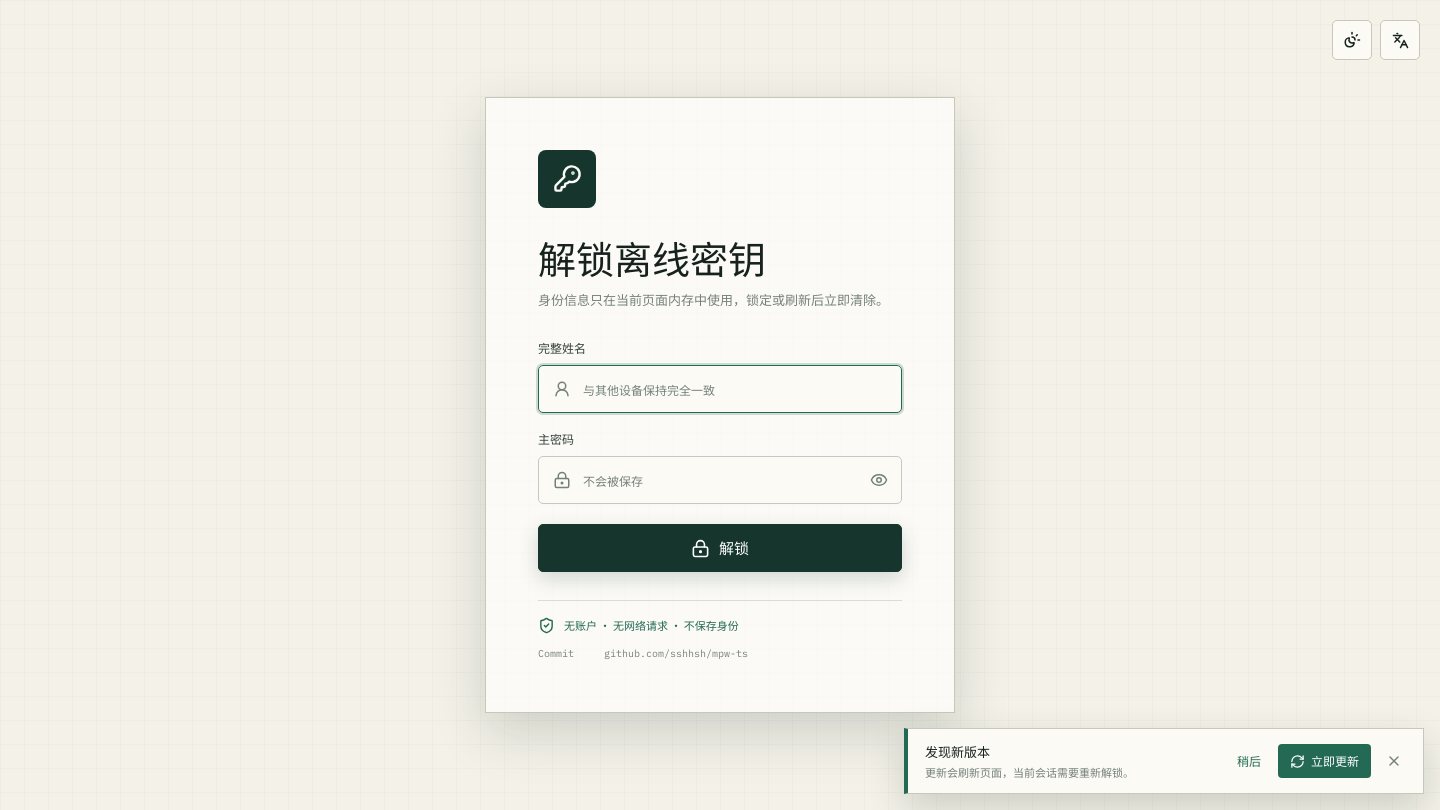
Test case: App session workflow › switches theme mode before and after unlocking
Click the button named "当前为跟随系统，切换为浅色模式": [1352, 40] box [1332,20,1372,60]
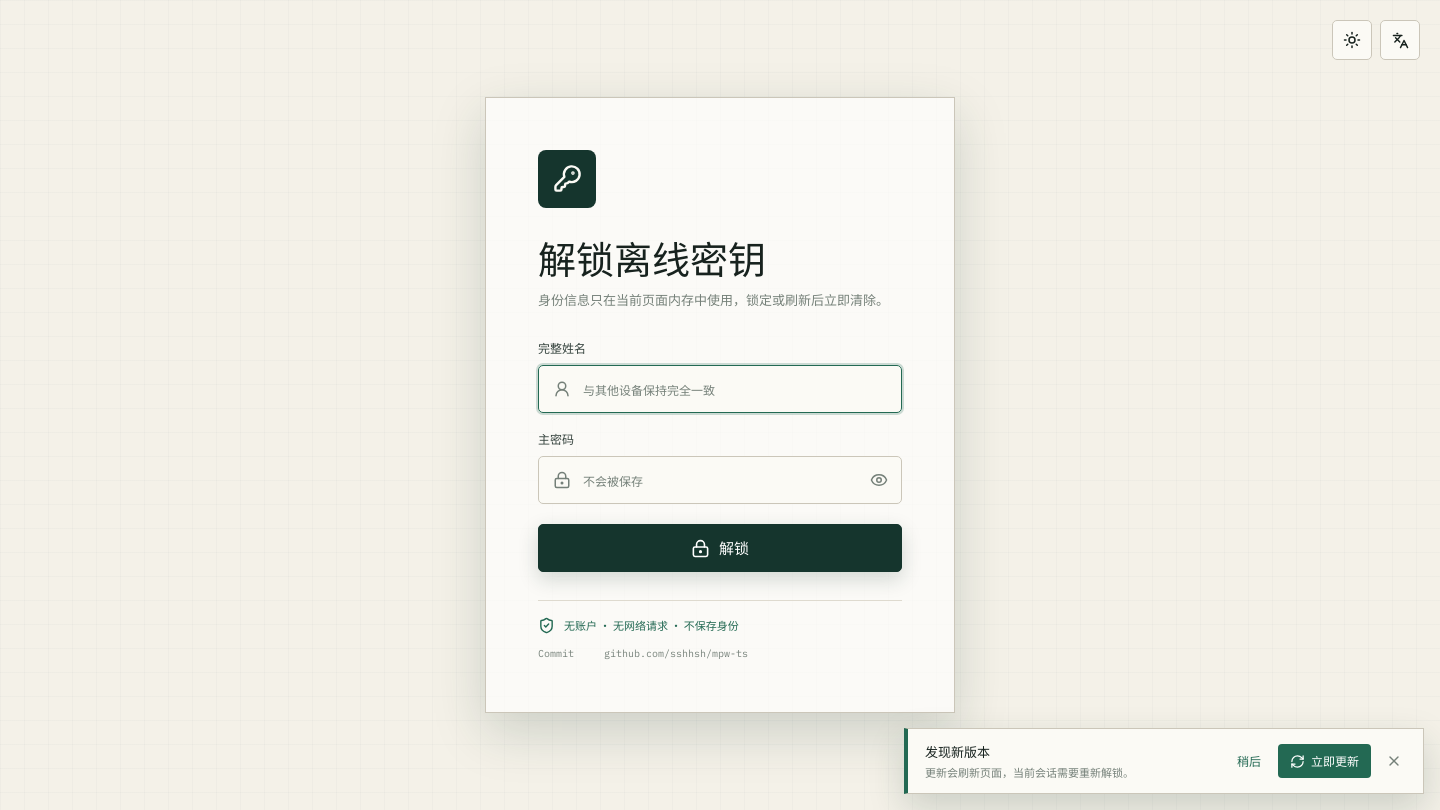
Click the button named "当前为浅色模式，切换为深色模式": [1352, 40] box [1332,20,1372,60]
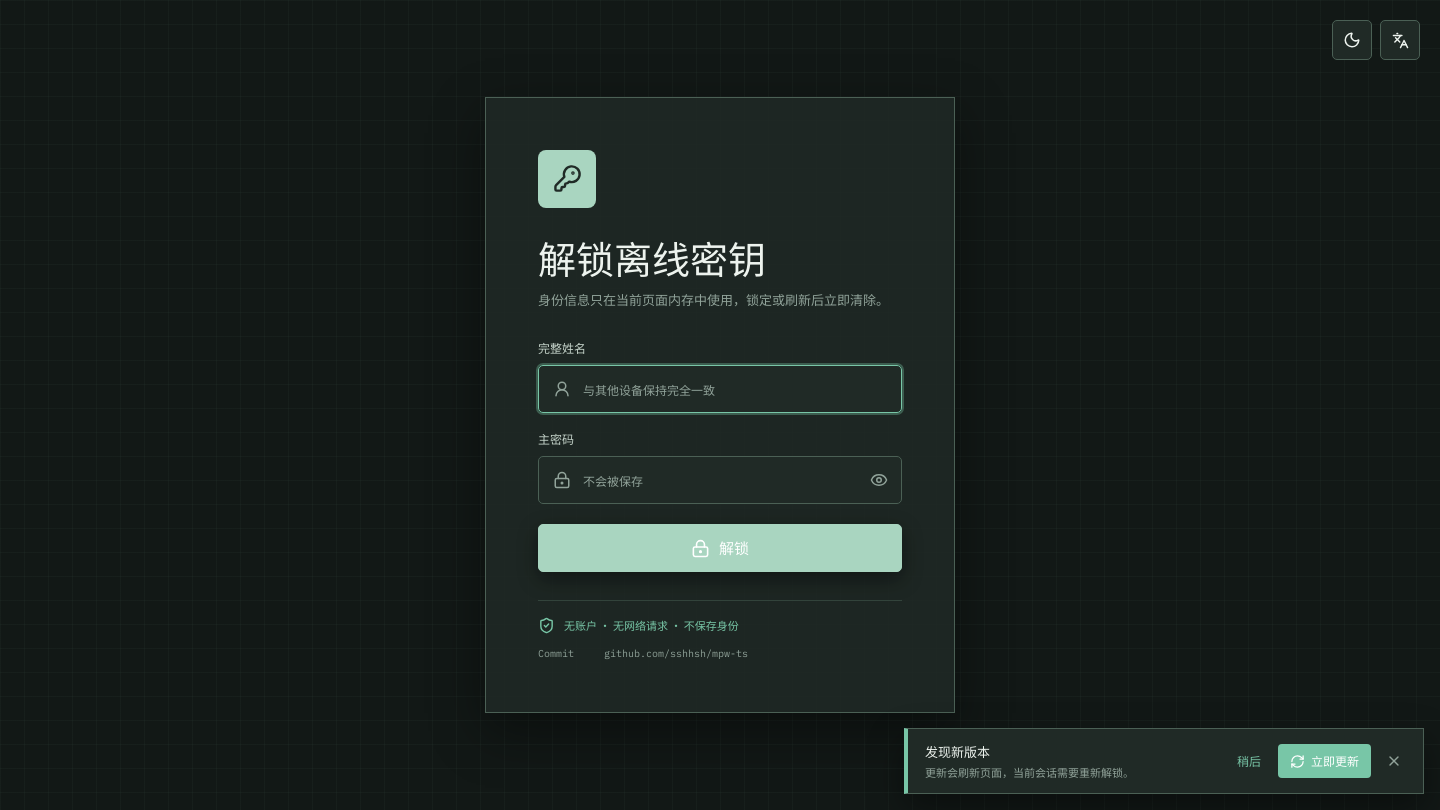
Click the button named "当前为深色模式，切换为跟随系统": [1352, 40] box [1332,20,1372,60]
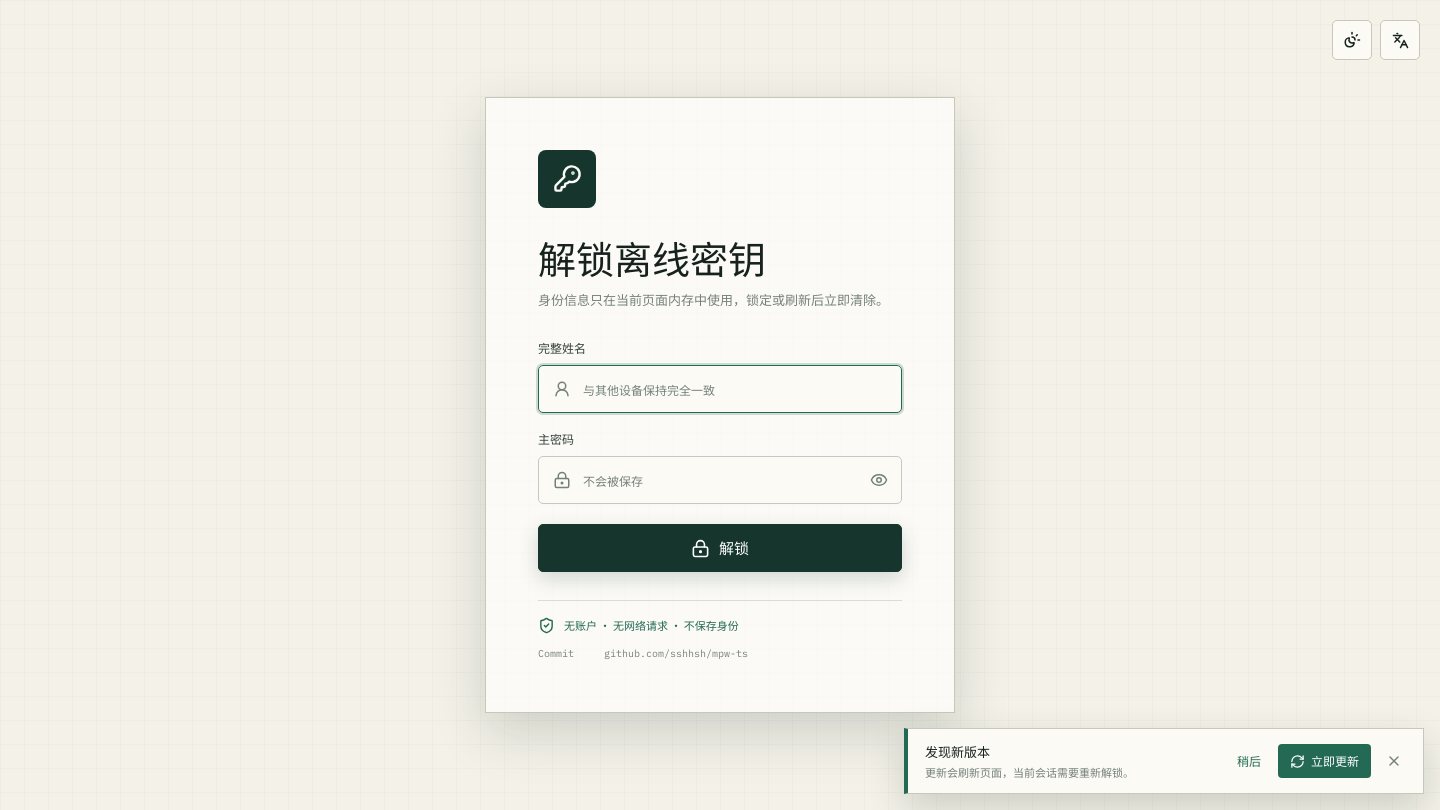
Click the button named "当前为跟随系统，切换为浅色模式": [1352, 40] box [1332,20,1372,60]
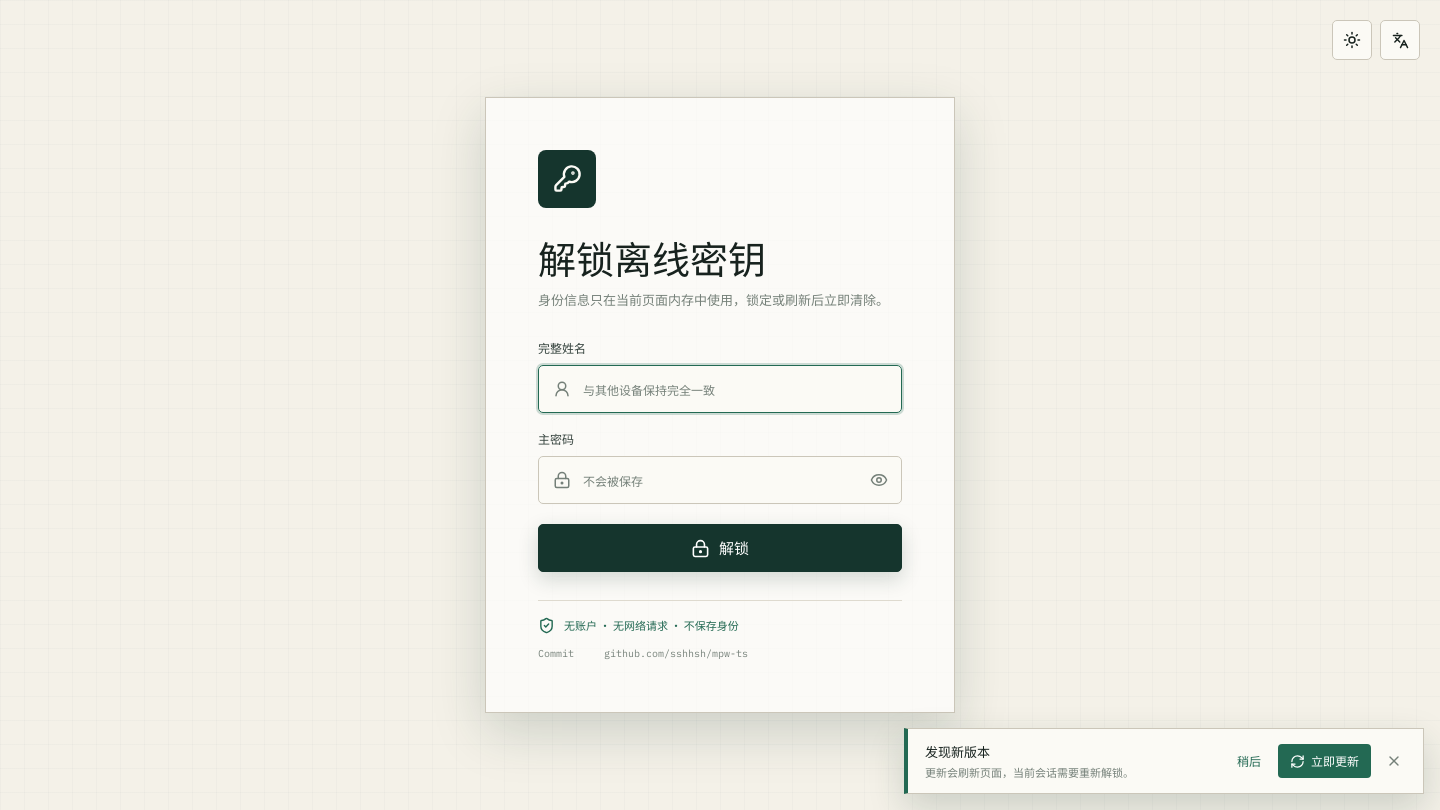
Click the button named "当前为浅色模式，切换为深色模式": [1352, 40] box [1332,20,1372,60]
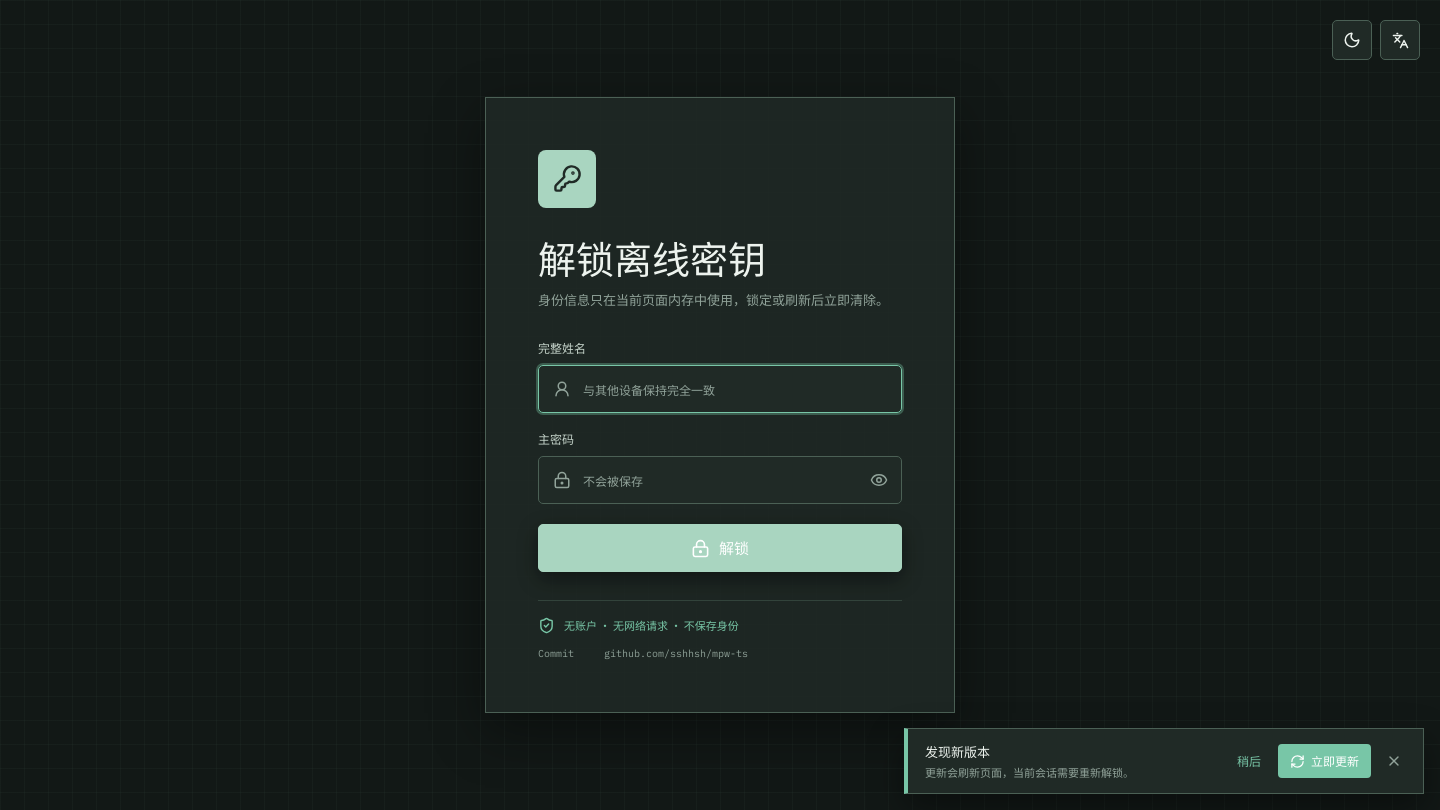
In the field labelled "完整姓名": [741, 389] box [581,366,901,412], type "user"
In the password field with placeholder "不会被保存": [714, 480] box [581,457,847,503], type "password"
Click the button "解锁": [720, 548] box [538,524,902,572]
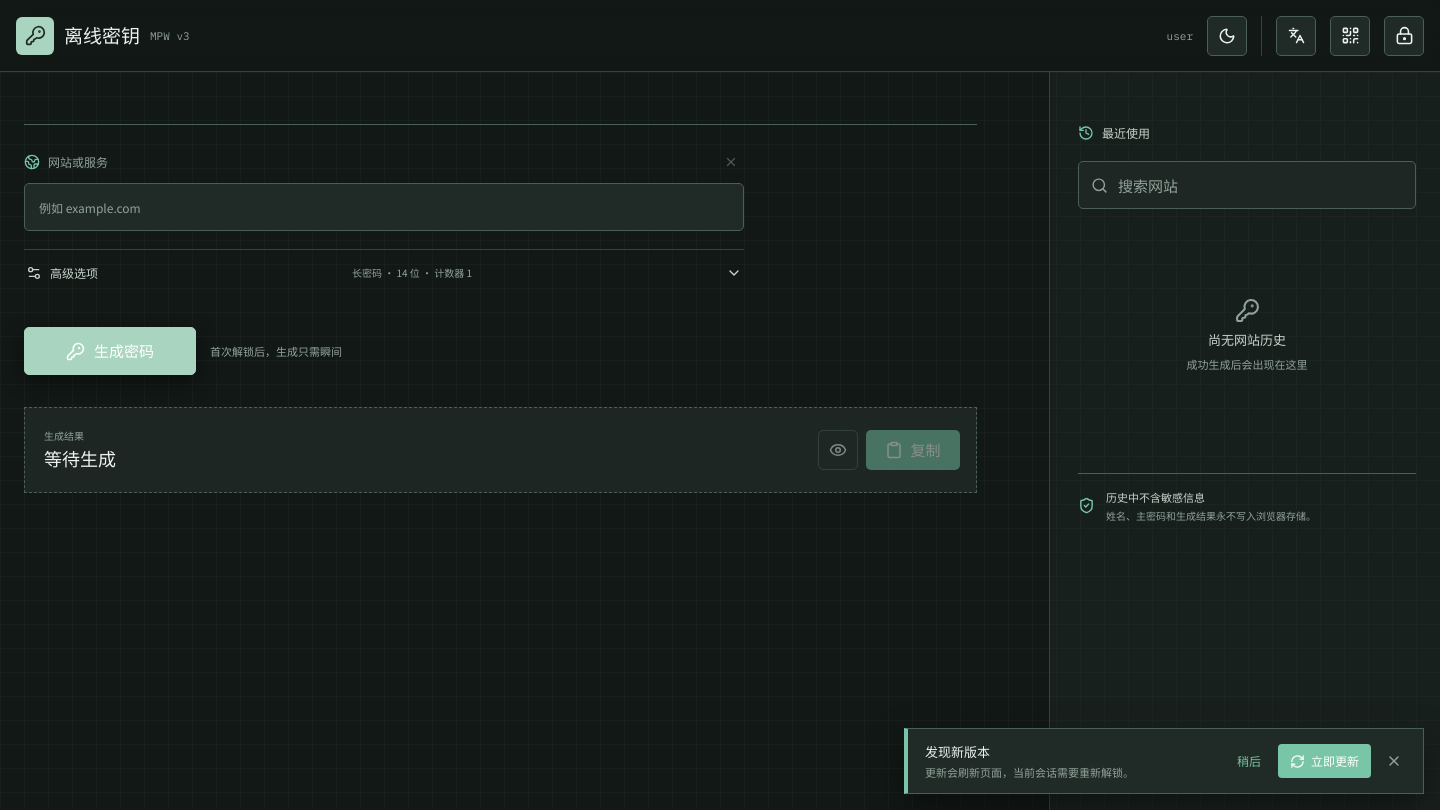
Expected: the button named "当前为深色模式，切换为跟随系统" is shown, [1207,16,1247,56]
Expected: the field labelled "网站或服务" is shown, [24,183,744,231]
